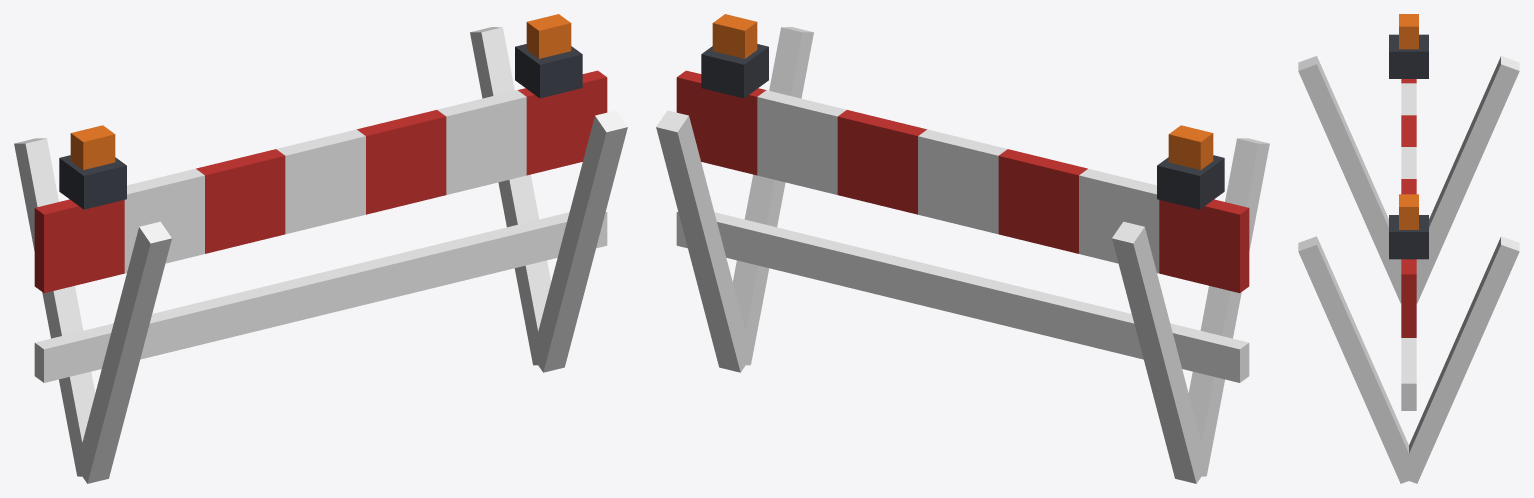
The model's file is Road_Barrier.glb.
The picture shows the model from 3 angles, left to right: view 1: azimuth 30°, elevation 25°; view 2: azimuth 150°, elevation 25°; view 3: azimuth 270°, elevation 25°; orthographic projection. The views are drawn at different scales.
Parts seen in each view (by area): view 1: Road_Barrier_Mesh, Road_Barrier_Lights; view 2: Road_Barrier_Mesh, Road_Barrier_Lights; view 3: Road_Barrier_Mesh, Road_Barrier_Lights.
Boxes of the visible parts, x1,y1,x2,y2 form: Road_Barrier_Mesh: (14,27,627,483); Road_Barrier_Lights: (70,14,571,169); Road_Barrier_Mesh: (656,27,1269,483); Road_Barrier_Lights: (712,14,1213,169); Road_Barrier_Mesh: (1298,34,1519,483); Road_Barrier_Lights: (1399,14,1418,229).
Bounding box in the file's own units: 2.1 × 1.23 × 0.8823.
1 material, 1 textured.
